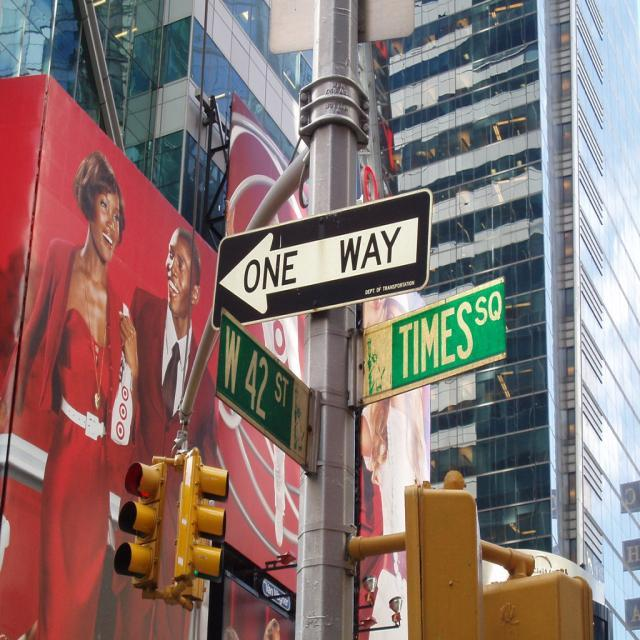traffic light: (112, 455, 160, 588), (185, 442, 228, 589)
